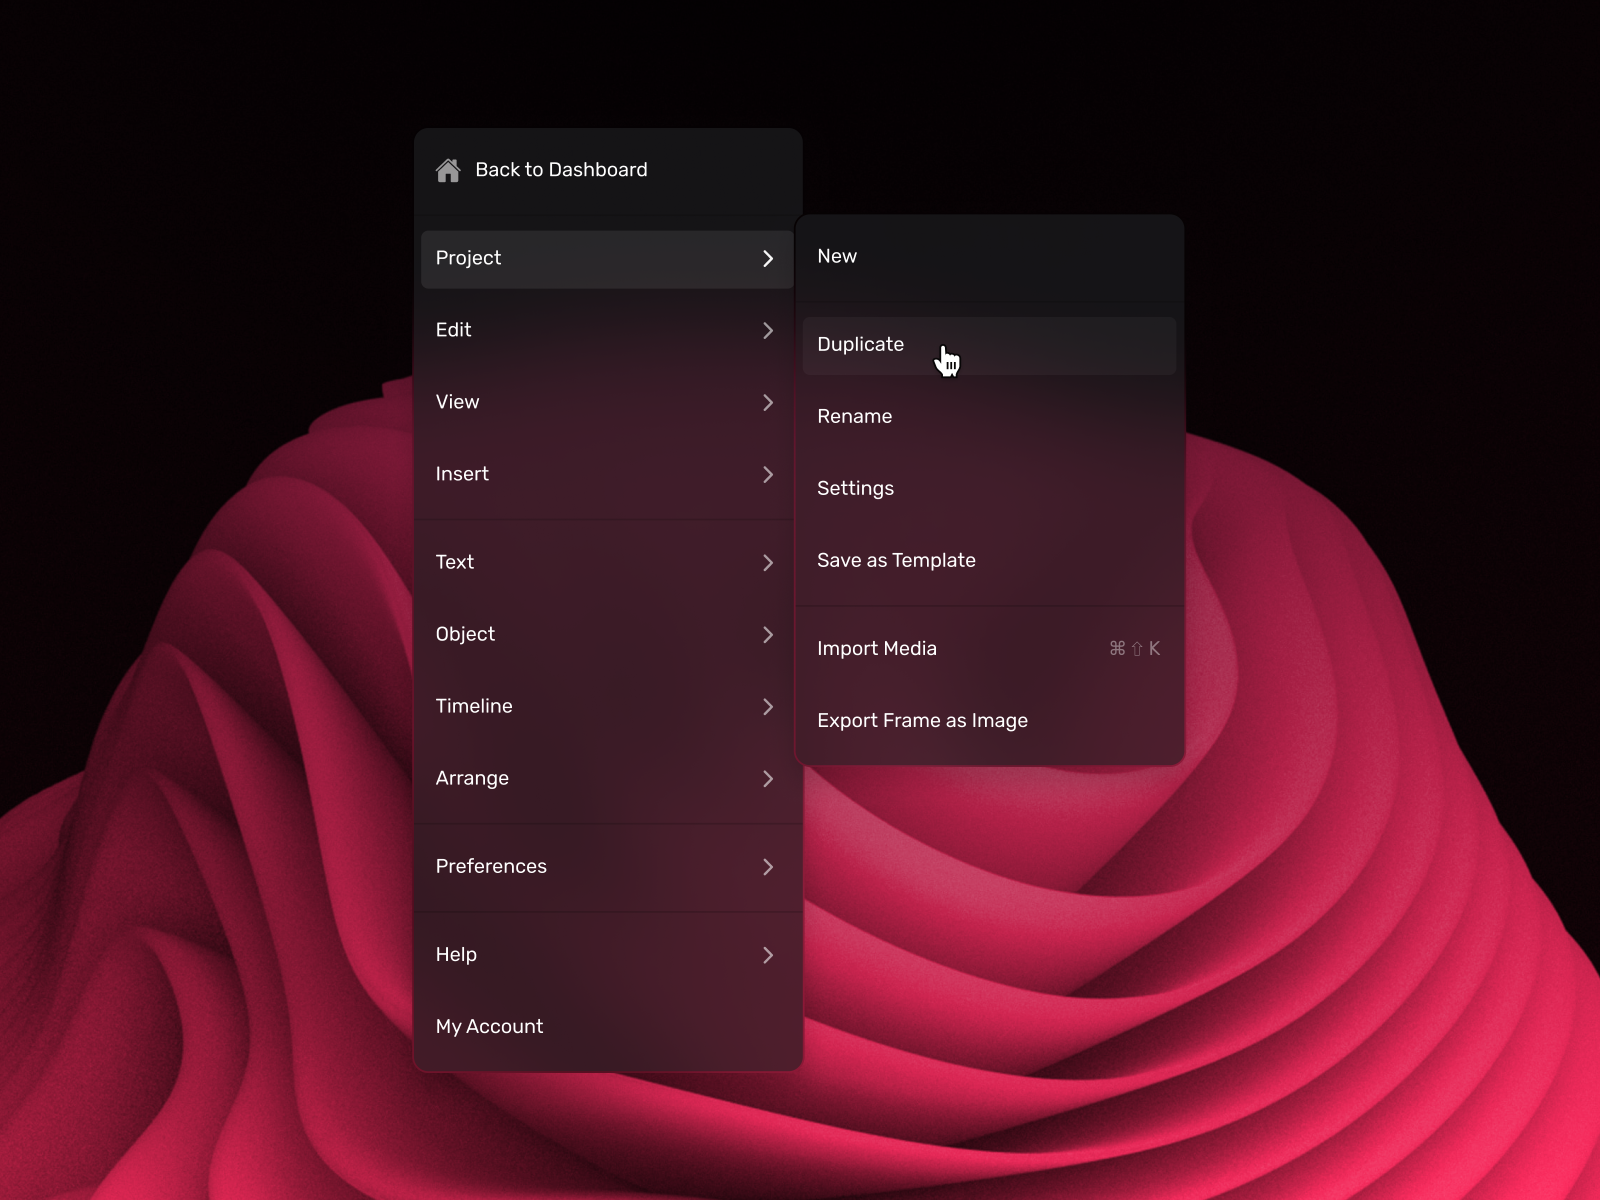menu-bar: (427, 224, 780, 1047)
